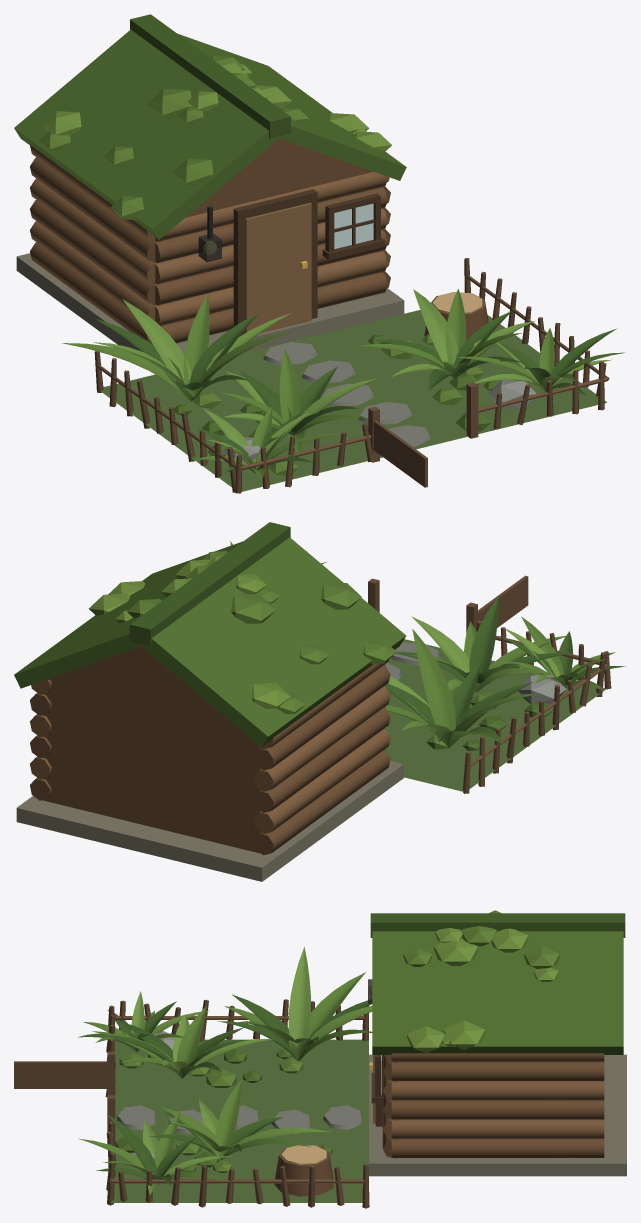
Rendered from shed_fern.glb.
The picture shows the model from 3 angles, top to bottom: view 1: azimuth 30°, elevation 25°; view 2: azimuth 150°, elevation 25°; view 3: azimuth 270°, elevation 25°; orthographic projection. The views are drawn at different scales.
Parts seen in each view (by area): view 1: Fern_Shed_m4, Fern_Yard_m14, Fern_Shed_m2, Fern_Shed_m3, Fern_Yard_m15, Fern_Yard_m18, Fern_Door_m9, Fern_Yard_m17, Fern_Yard_m19, Fern_Shed_m0, Fern_Shed_m1, Fern_Shed_m8 (+9 smaller); view 2: Fern_Shed_m1, Fern_Shed_m4, Fern_Shed_m0, Fern_Shed_m2, Fern_Yard_m14, Fern_Shed_m3, Fern_Yard_m15, Fern_Yard_m17, Fern_Yard_m18, Fern_Shed_m7, Fern_Shed_m6, Fern_Yard_m19 (+4 smaller); view 3: Fern_Shed_m4, Fern_Yard_m14, Fern_Shed_m2, Fern_Shed_m3, Fern_Yard_m15, Fern_Shed_m0, Fern_Yard_m18, Fern_Yard_m17, Fern_Yard_m19, Fern_Shed_m7, Fern_Shed_m5, Fern_Yard_m16 (+6 smaller).
Part boxes in pixels (bbox=[...]): Fern_Shed_m4: bbox=[14, 29, 406, 239]; Fern_Yard_m14: bbox=[100, 310, 606, 491]; Fern_Shed_m2: bbox=[30, 157, 390, 344]; Fern_Shed_m3: bbox=[30, 144, 390, 325]; Fern_Yard_m15: bbox=[94, 258, 609, 493]; Fern_Yard_m18: bbox=[62, 289, 624, 479]; Fern_Door_m9: bbox=[245, 203, 311, 332]; Fern_Yard_m17: bbox=[95, 311, 616, 473]; Fern_Yard_m19: bbox=[93, 289, 612, 468]; Fern_Shed_m0: bbox=[16, 253, 404, 355]; Fern_Shed_m1: bbox=[186, 138, 373, 217]; Fern_Shed_m8: bbox=[233, 189, 384, 336]; Fern_Shed_m1: bbox=[43, 646, 260, 853]; Fern_Shed_m4: bbox=[14, 537, 406, 747]; Fern_Shed_m0: bbox=[16, 760, 403, 881]; Fern_Shed_m2: bbox=[30, 664, 390, 855]; Fern_Yard_m14: bbox=[385, 639, 605, 792]; Fern_Shed_m3: bbox=[30, 660, 390, 833]; Fern_Yard_m15: bbox=[368, 575, 611, 793]; Fern_Yard_m17: bbox=[321, 562, 625, 747]; Fern_Yard_m18: bbox=[230, 541, 615, 747]; Fern_Shed_m7: bbox=[129, 522, 290, 646]; Fern_Shed_m6: bbox=[127, 551, 396, 713]; Fern_Yard_m19: bbox=[387, 616, 607, 745]; Fern_Shed_m4: bbox=[372, 931, 623, 1054]; Fern_Yard_m14: bbox=[111, 1039, 368, 1202]; Fern_Shed_m2: bbox=[382, 1055, 604, 1158]; Fern_Shed_m3: bbox=[382, 1053, 604, 1139]; Fern_Yard_m15: bbox=[14, 999, 369, 1208]; Fern_Shed_m0: bbox=[369, 1054, 626, 1176]; Fern_Yard_m18: bbox=[78, 972, 372, 1184]; Fern_Yard_m17: bbox=[78, 994, 371, 1185]; Fern_Yard_m19: bbox=[130, 947, 372, 1194]; Fern_Shed_m7: bbox=[370, 913, 625, 937]; Fern_Shed_m5: bbox=[407, 928, 558, 1053]; Fern_Yard_m16: bbox=[116, 1105, 361, 1134].
Bounding box in the file's own units: 7.36 × 3.56 × 9.51.
